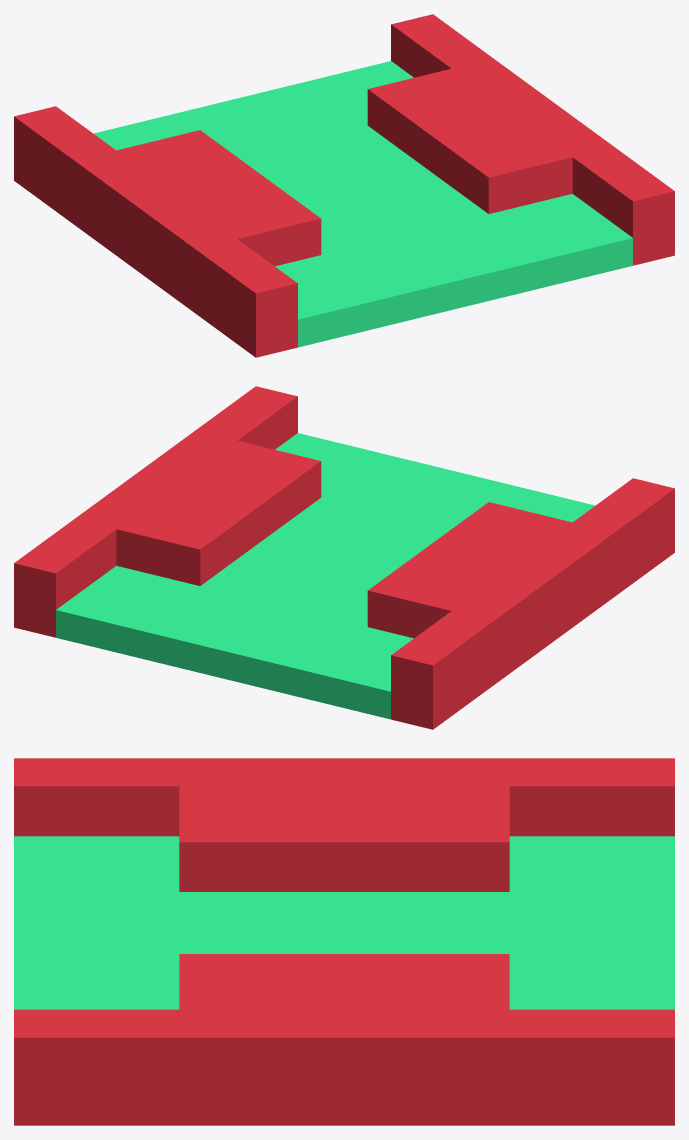
File: narrowBlock.fbx
3 views of the same model, one above another, from view 1: azimuth 30°, elevation 25°; view 2: azimuth 150°, elevation 25°; view 3: azimuth 270°, elevation 25° (orthographic). The views are drawn at different scales.
Parts seen in each view (by area): view 1: narrowBlock; view 2: narrowBlock; view 3: narrowBlock.
Boxes of the visible parts, bbox=[...] form: narrowBlock: bbox=[14, 14, 674, 357]; narrowBlock: bbox=[14, 386, 674, 729]; narrowBlock: bbox=[14, 758, 674, 1125].
Size of the model in its own units: 10 by 1.47 by 10.
